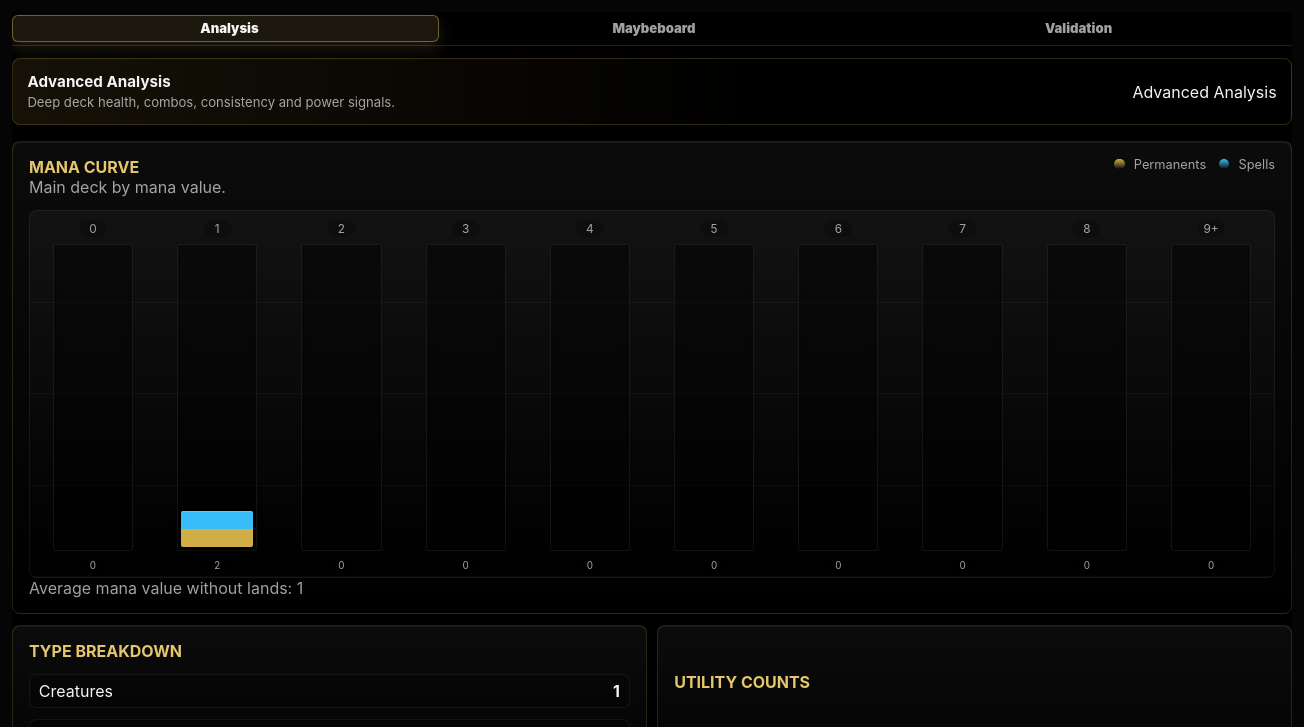
Test case: CommunityDeckInspectorComponent › shows hover card lists for analysis metrics
The image size is (1304, 727).
Hover over the element with class "hoverable-analysis-row" showing "Creatures 1": (329, 691) x1=29 y1=674 x2=630 y2=708
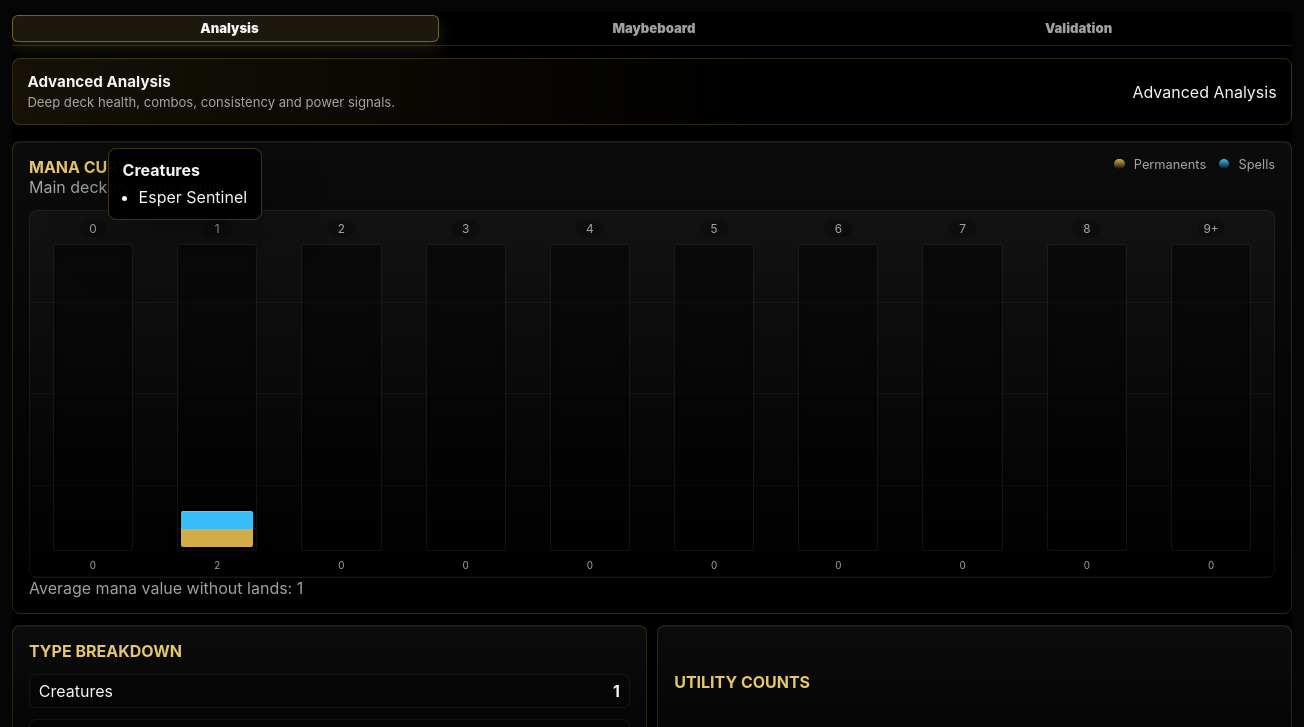
Check: the element with class "analysis-hover-list" is shown, box x1=108 y1=148 x2=262 y2=220
Check: the element with class "analysis-hover-list" shows "Esper Sentinel", box x1=139 y1=187 x2=247 y2=207
